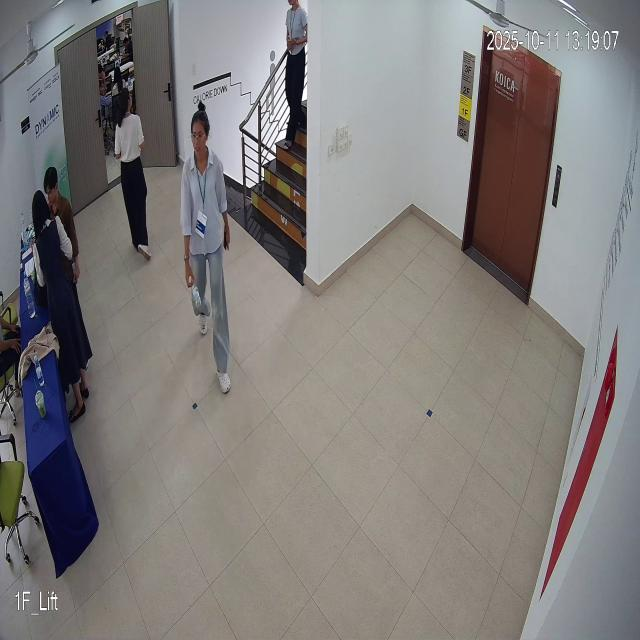face: (186, 95, 213, 175)
